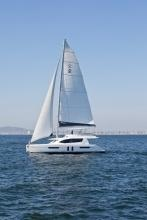fanchuan: (22, 39, 100, 155)
